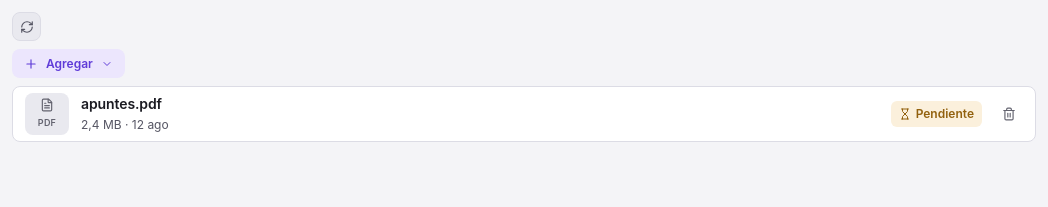
Test: AdjuntosContainer › shows a channel-level failure message when adjuntos:delete rejects, and the row stays listed
Expected: the text "apuntes.pdf" is shown, [81,95,162,112]
Click the button named "Eliminar " at x=1008, y=114, box [994,99,1023,128]
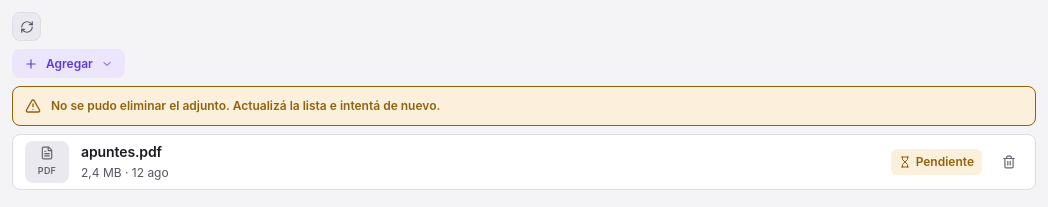
Expected: the text "apuntes.pdf" is shown, [81,143,162,160]
Now the text "No se pudo eliminar el adjunto. Actualizá la lista e intentá de nuevo." is shown, box [51,97,440,115]
